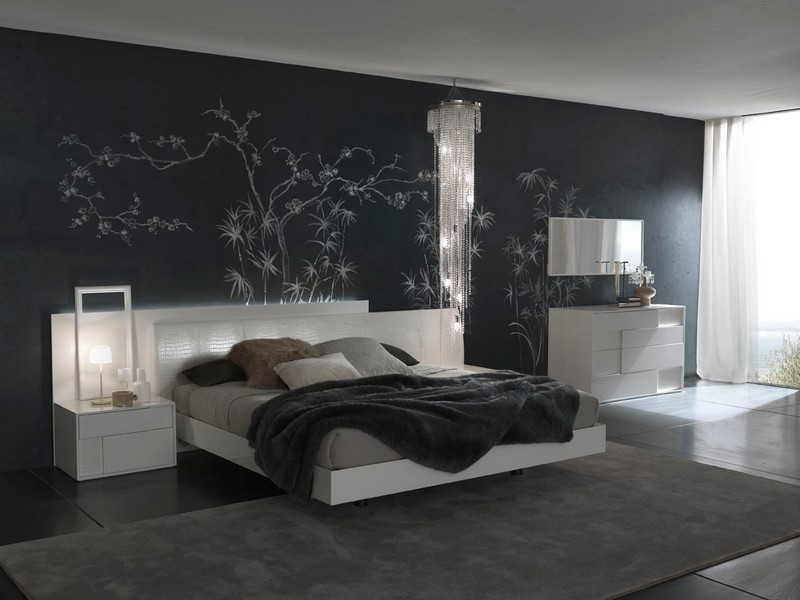bed: (146, 308, 608, 502)
lamp: (426, 103, 484, 344), (87, 342, 116, 415)
stool: (548, 302, 688, 406), (57, 393, 183, 484)
